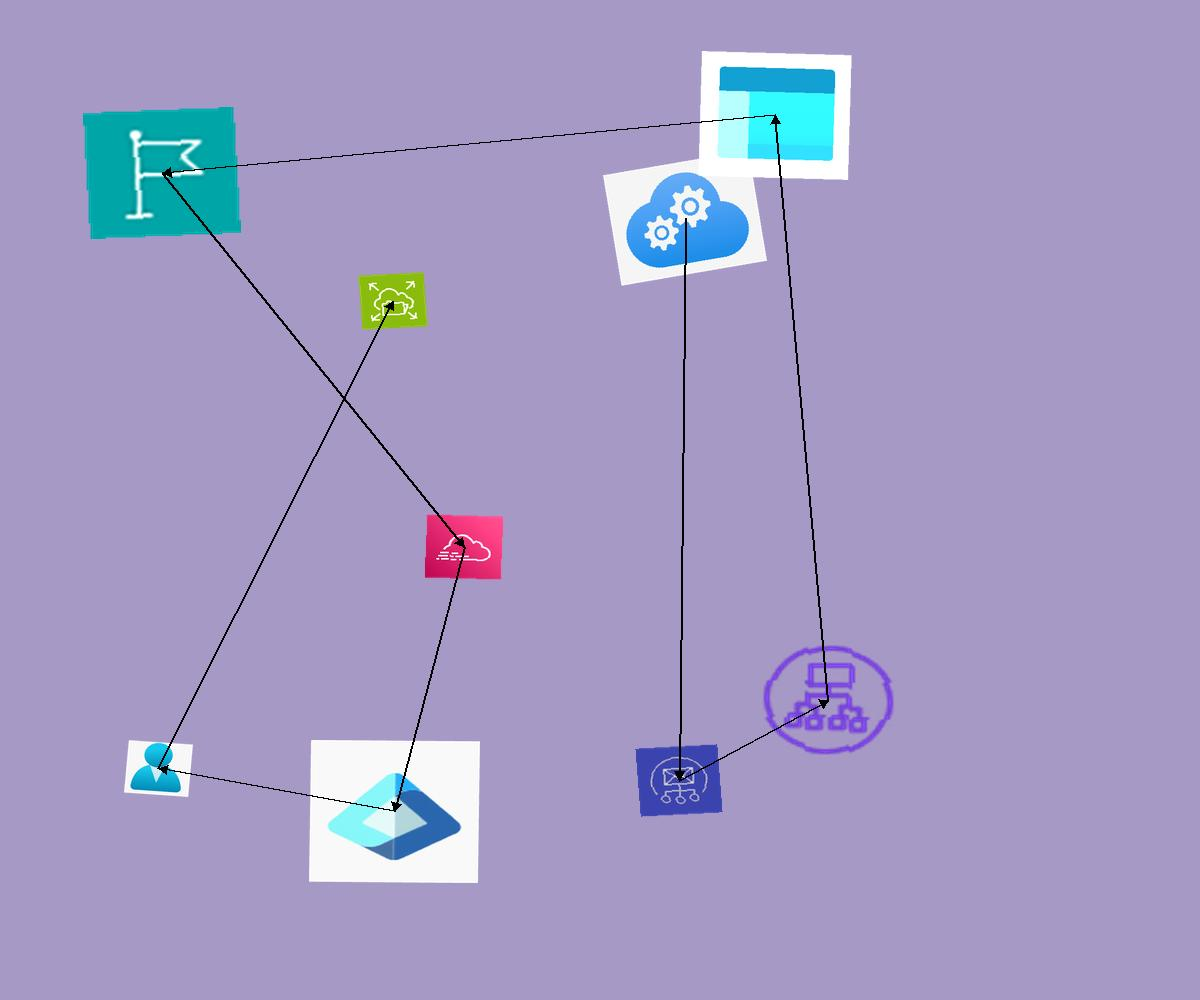AWS-CloudTrail: (424, 514, 504, 580)
AWS-EFS: (358, 272, 428, 330)
AWS-Region: (83, 107, 241, 239)
AWS-Res_Elastic-Load-Balancing_Application-Load-Balancer: (752, 636, 905, 764)
AWS-Simple-Email-Service: (635, 744, 723, 817)
Azure_cloud_services: (603, 150, 767, 286)
Azure_management-portal: (698, 51, 852, 180)
Azure_microsoft_entra: (309, 740, 480, 883)
Azure_users: (124, 740, 193, 797)
